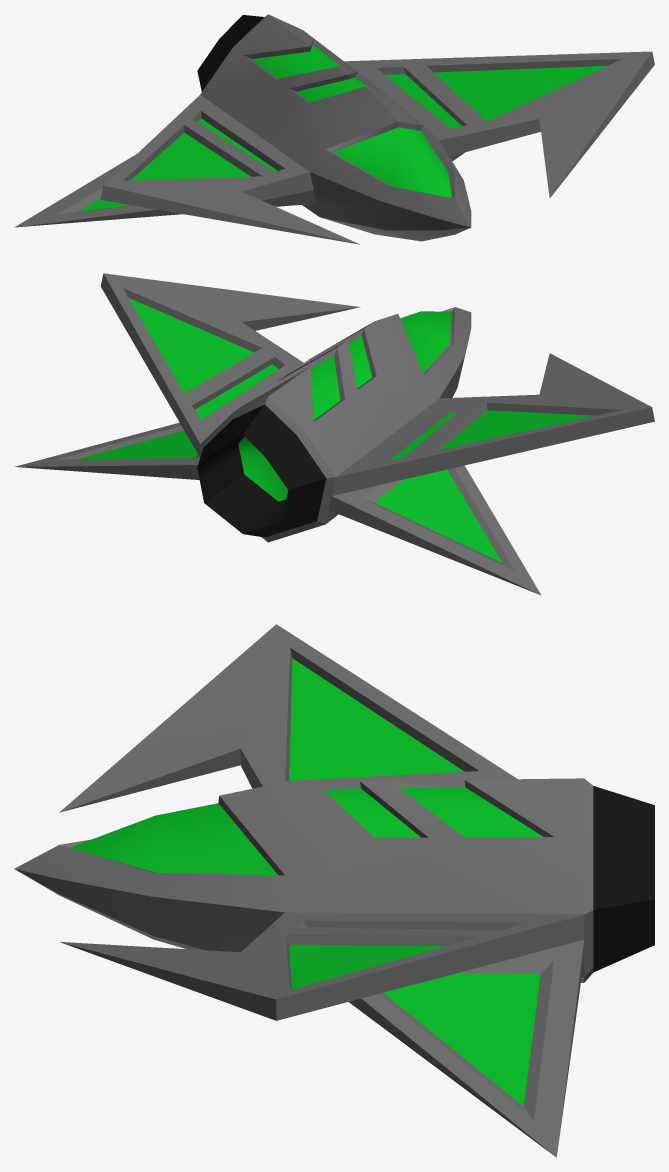
Rendered from XJet.fbx.
The picture shows the model from 3 angles, top to bottom: view 1: azimuth 30°, elevation 25°; view 2: azimuth 150°, elevation 25°; view 3: azimuth 270°, elevation 25°; orthographic projection. The views are drawn at different scales.
Visible parts, largest first — view 1: xJet__racer; view 2: xJet__racer; view 3: xJet__racer.
Boxes of the visible parts, <box> form: xJet__racer: <box>14,14,654,244</box>; xJet__racer: <box>14,273,654,595</box>; xJet__racer: <box>14,624,654,1157</box>.
Size of the model in its own units: 4.98 by 1.25 by 3.56.
